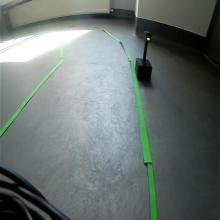green: (142, 30, 152, 42)
